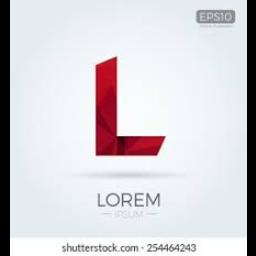l: (91, 53, 173, 165)
